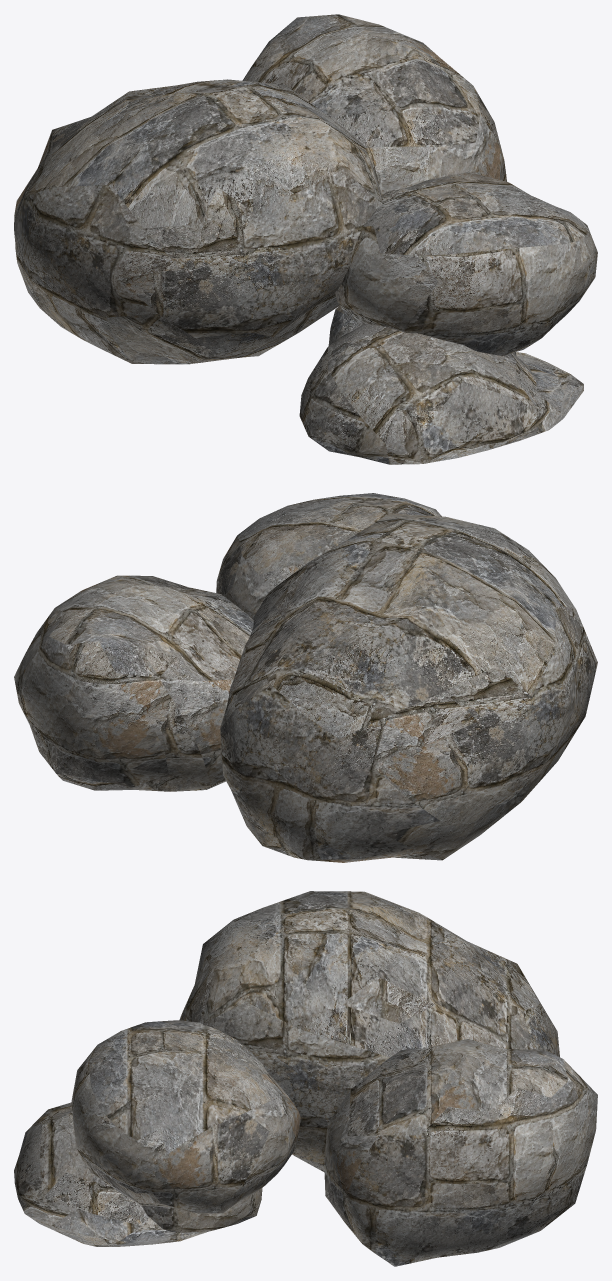
The model's file is rock-cluster-v01.glb.
The picture shows the model from 3 angles, top to bottom: view 1: azimuth 30°, elevation 25°; view 2: azimuth 150°, elevation 25°; view 3: azimuth 270°, elevation 25°; orthographic projection. The views are drawn at different scales.
Visible parts, largest first — view 1: rock-cluster; view 2: rock-cluster; view 3: rock-cluster.
Part boxes in pixels (<box>): rock-cluster: <box>14,14,597,464</box>; rock-cluster: <box>14,493,597,862</box>; rock-cluster: <box>14,891,597,1266</box>.
Bounding box in the file's own units: 1.24 × 0.6137 × 1.4.
1 material, 1 textured.
